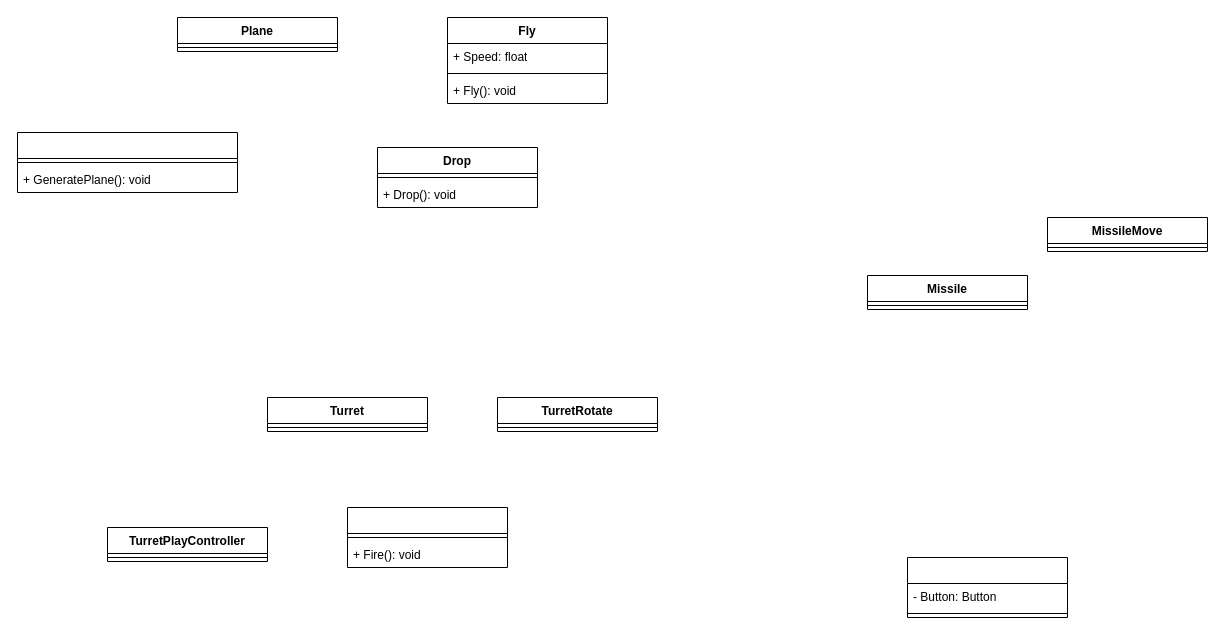
Some shapes in this 1225 by 635 pixel diagram are drawn without their labels. The box of each missing label's shape, as (x1, y1, x2, y2) in pixels:
PlaneGenerater: (16, 132, 238, 192)
TurretFire: (346, 506, 508, 568)
UIButton: (906, 556, 1068, 618)
